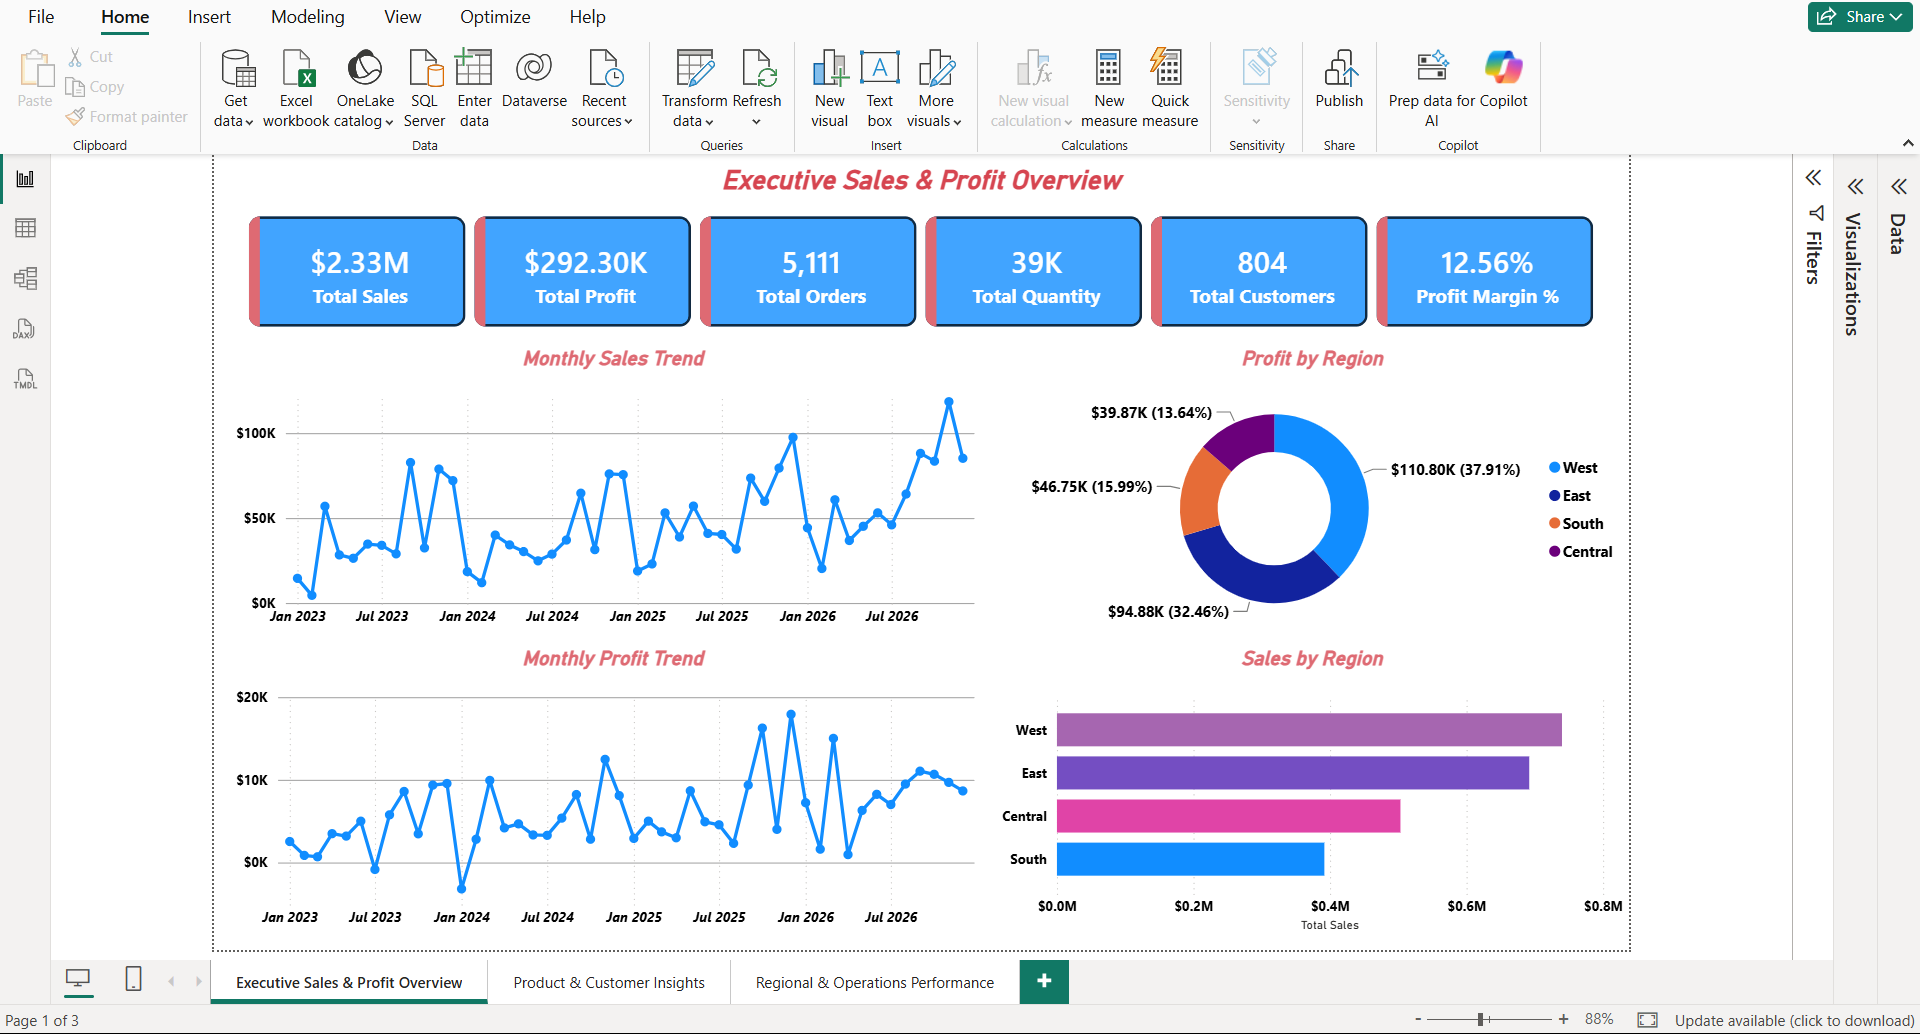

This screenshot's page, from the dashboard's own definition file:
{"tool":"powerbi","page":{"name":"Executive Sales & Profit Overview","canvas":[1280,720],"ordinal":0},"visuals":[{"type":"cardVisual","title":"Executive Sales & Profit Overview","fields":{"Data":["sales_performance sales_data.Total Sales","sales_performance sales_data.Total Profit","sales_performance sales_data.Total Orders","sales_performance sales_data.Total Quantity","sales_performance sales_data.Total Customers","sales_performance sales_data.Profit Margin %"]},"box":[15.1,9.3,1250,165.1],"z":0},{"type":"lineChart","title":"Monthly Sales Trend","fields":{"Category":["sales_performance sales_data.month_start.Variation.Date Hierarchy.Year","sales_performance sales_data.month_start.Variation.Date Hierarchy.Quarter","sales_performance sales_data.month_start.Variation.Date Hierarchy.Month","sales_performance sales_data.month_start.Variation.Date Hierarchy.Day"],"Y":["sales_performance sales_data.Total Sales"]},"box":[15.1,174.4,691.9,262],"z":1000},{"type":"lineChart","title":"Monthly Profit Trend","fields":{"Y":["sales_performance sales_data.Total Profit"],"Category":["sales_performance sales_data.month_start.Variation.Date Hierarchy.Year","sales_performance sales_data.month_start.Variation.Date Hierarchy.Quarter","sales_performance sales_data.month_start.Variation.Date Hierarchy.Month","sales_performance sales_data.month_start.Variation.Date Hierarchy.Day"]},"box":[15.1,445.4,691.9,262.8],"z":2000},{"type":"donutChart","title":"Profit by Region","fields":{"Category":["sales_performance sales_data.region"],"Y":["sales_performance sales_data.Total Profit"]},"box":[707,174.4,573.3,261.6],"z":3000},{"type":"clusteredBarChart","title":"Sales by Region","fields":{"Category":["sales_performance sales_data.region"],"Y":["sales_performance sales_data.Total Sales"]},"box":[707,445.4,573,263],"z":4000}]}

Visuals, with their boxes on the page's 1280x720 design canvas (x1, y1, x2, y2). These are canvas units, not pixel positions in the 1920x1034 screenshot, which may show the page scaled, cropped or inside an application window:
"Executive Sales & Profit Overview" cardVisual: bbox(15, 9, 1265, 174)
"Monthly Sales Trend" lineChart: bbox(15, 174, 707, 436)
"Monthly Profit Trend" lineChart: bbox(15, 445, 707, 708)
"Profit by Region" donutChart: bbox(707, 174, 1280, 436)
"Sales by Region" clusteredBarChart: bbox(707, 445, 1280, 708)
